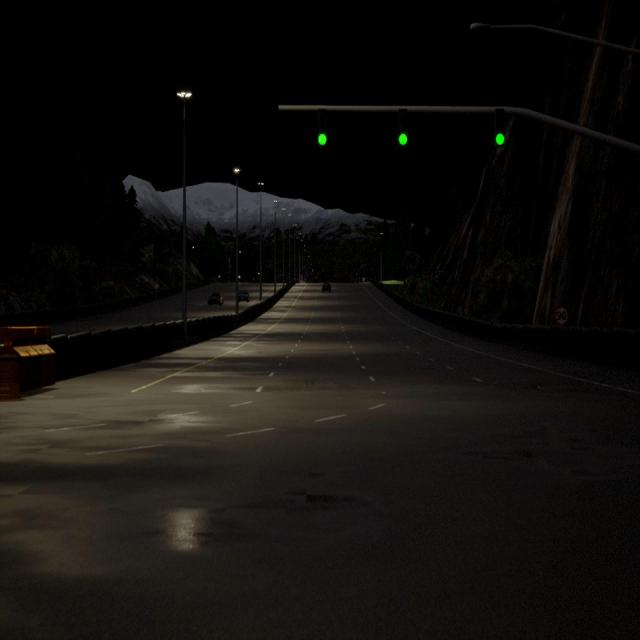Traffic_Signs: (555, 307, 568, 324), (154, 283, 159, 289)
Vehicle: (208, 292, 224, 306), (238, 290, 249, 303), (322, 282, 331, 292)
traffic_light: (495, 108, 505, 147), (398, 108, 408, 146), (318, 108, 327, 146)
